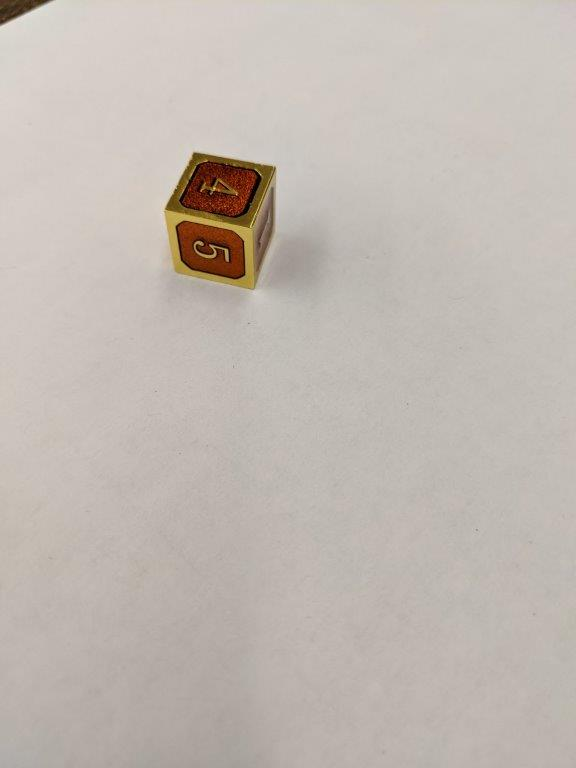d6-4: (156, 149, 281, 289)
